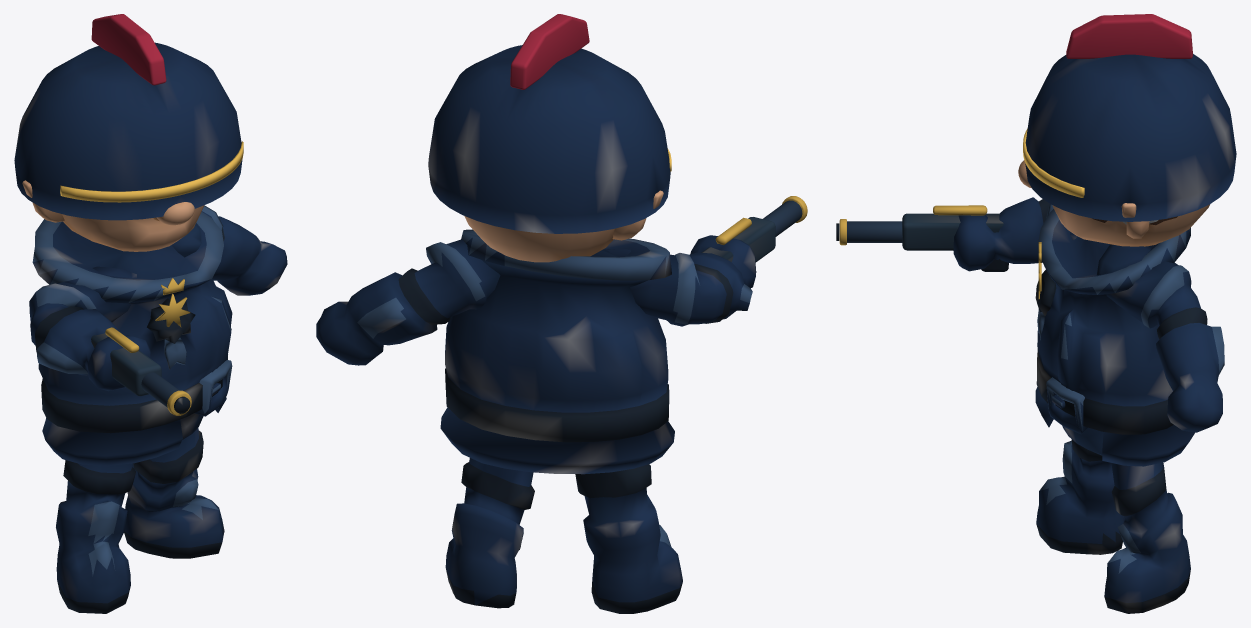
The model's file is HALFGROWN_LEGIONARY.hi.glb.
The picture shows the model from 3 angles, left to right: view 1: azimuth 30°, elevation 25°; view 2: azimuth 150°, elevation 25°; view 3: azimuth 270°, elevation 25°; orthographic projection. The views are drawn at different scales.
Visible parts, largest first — view 1: body (×2), recoil, legR, legL; view 2: body, recoil, legR, legL; view 3: body (×2), recoil, legL, legR.
Boxes of the visible parts, x1,y1,x2,y2 form: body (×2): (14,14,243,465); recoil: (29,205,287,415); legR: (56,460,135,613); legL: (124,428,224,558); body: (428,14,674,474); recoil: (316,196,807,365); legR: (575,464,682,613); legL: (445,458,534,608); body (×2): (1018,14,1236,466); recoil: (836,197,1224,432); legL: (1104,462,1190,613); legR: (1036,439,1124,554).
Bounding box in the file's own units: 0.6318 × 1 × 0.6552.
